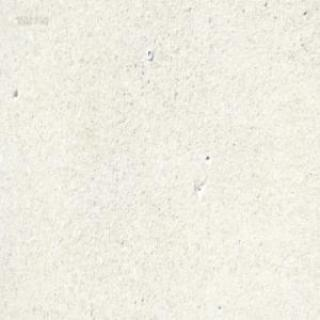Washertrack_idkeyframe: (146, 49, 154, 60)
